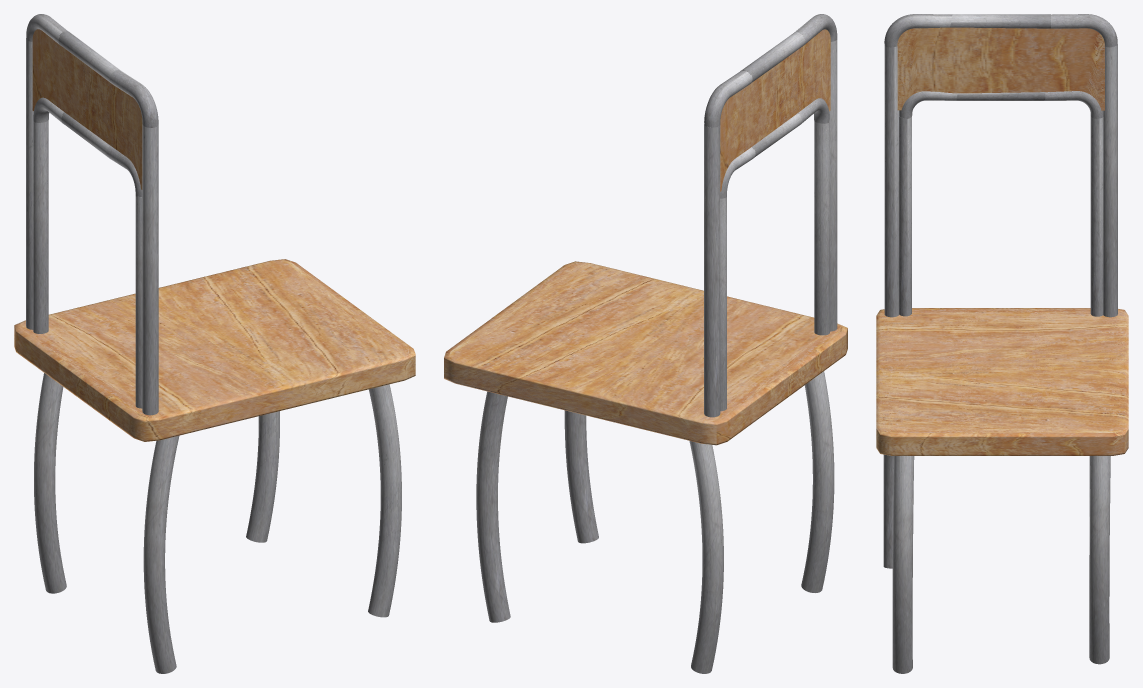
The model's file is Chair.fbx.
3 renders of one model, left to right at view 1: azimuth 30°, elevation 25°; view 2: azimuth 150°, elevation 25°; view 3: azimuth 270°, elevation 25°, orthographic. The views are drawn at different scales.
Visible parts, largest first — view 1: pCube1, pCylinder19, pCube2, pCylinder1, pCylinder4, pCylinder2, pCylinder3; view 2: pCube1, pCylinder19, pCube2, pCylinder2, pCylinder3, pCylinder1, pCylinder4; view 3: pCube1, pCylinder19, pCube2, pCylinder4, pCylinder3, pCylinder1.
Part boxes in pixels (x1,y1,x2,y2): pCube1: [14, 259, 415, 441]; pCylinder19: [26, 14, 158, 415]; pCube2: [32, 29, 142, 189]; pCylinder1: [143, 436, 179, 673]; pCylinder4: [368, 384, 401, 617]; pCylinder2: [34, 373, 66, 593]; pCylinder3: [246, 411, 279, 542]; pCube1: [444, 261, 847, 445]; pCylinder19: [704, 14, 837, 417]; pCube2: [720, 29, 830, 191]; pCylinder2: [689, 441, 723, 673]; pCylinder3: [476, 391, 510, 622]; pCylinder1: [801, 371, 834, 592]; pCylinder4: [564, 410, 598, 543]; pCube1: [876, 308, 1128, 455]; pCylinder19: [884, 14, 1117, 317]; pCube2: [897, 27, 1104, 110]; pCylinder4: [892, 456, 914, 673]; pCylinder3: [1089, 456, 1110, 664]; pCylinder1: [883, 454, 893, 568].
Bounding box in the file's own units: 60 × 120 × 50.
